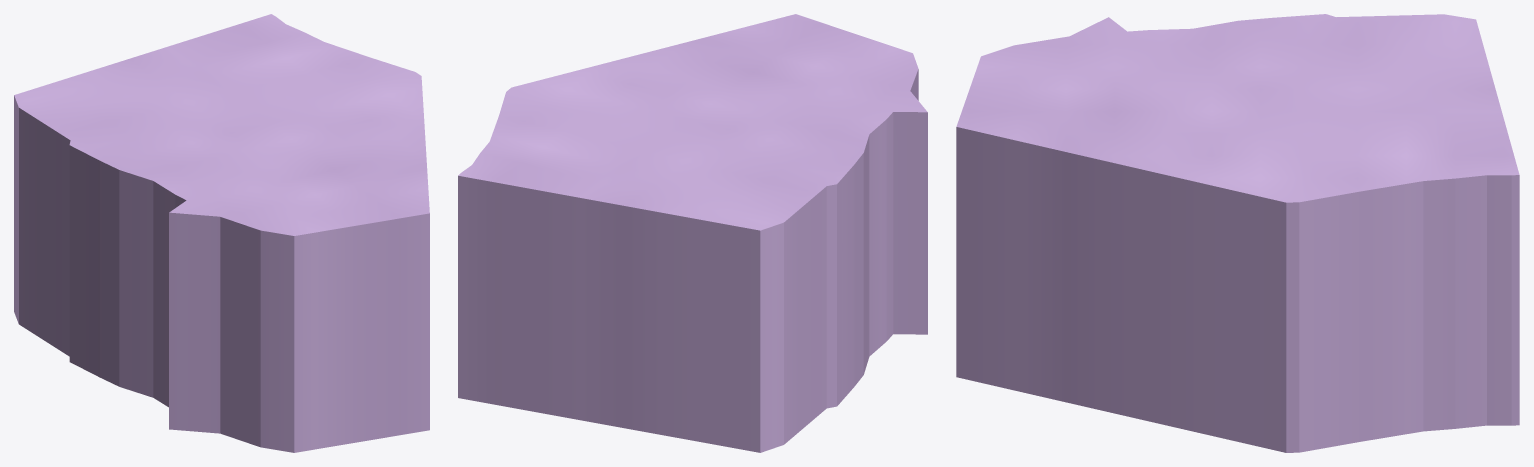
The model's file is south plainfield.glb.
The picture shows the model from 3 angles, left to right: view 1: azimuth 30°, elevation 25°; view 2: azimuth 150°, elevation 25°; view 3: azimuth 270°, elevation 25°; orthographic projection. The views are drawn at different scales.
Visible parts, largest first — view 1: Plane.006; view 2: Plane.006; view 3: Plane.006.
Part boxes in pixels (x1,y1,x2,y2): Plane.006: (14, 14, 429, 452); Plane.006: (458, 14, 927, 452); Plane.006: (956, 14, 1519, 452).
Bounding box in the file's own units: 0.5911 × 0.3658 × 0.7458.
Materials: 1 (1 with a texture image).
